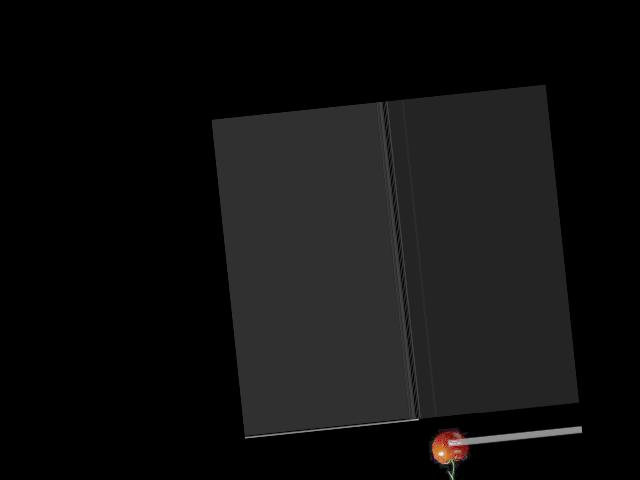tomato: (431, 430, 468, 464)
